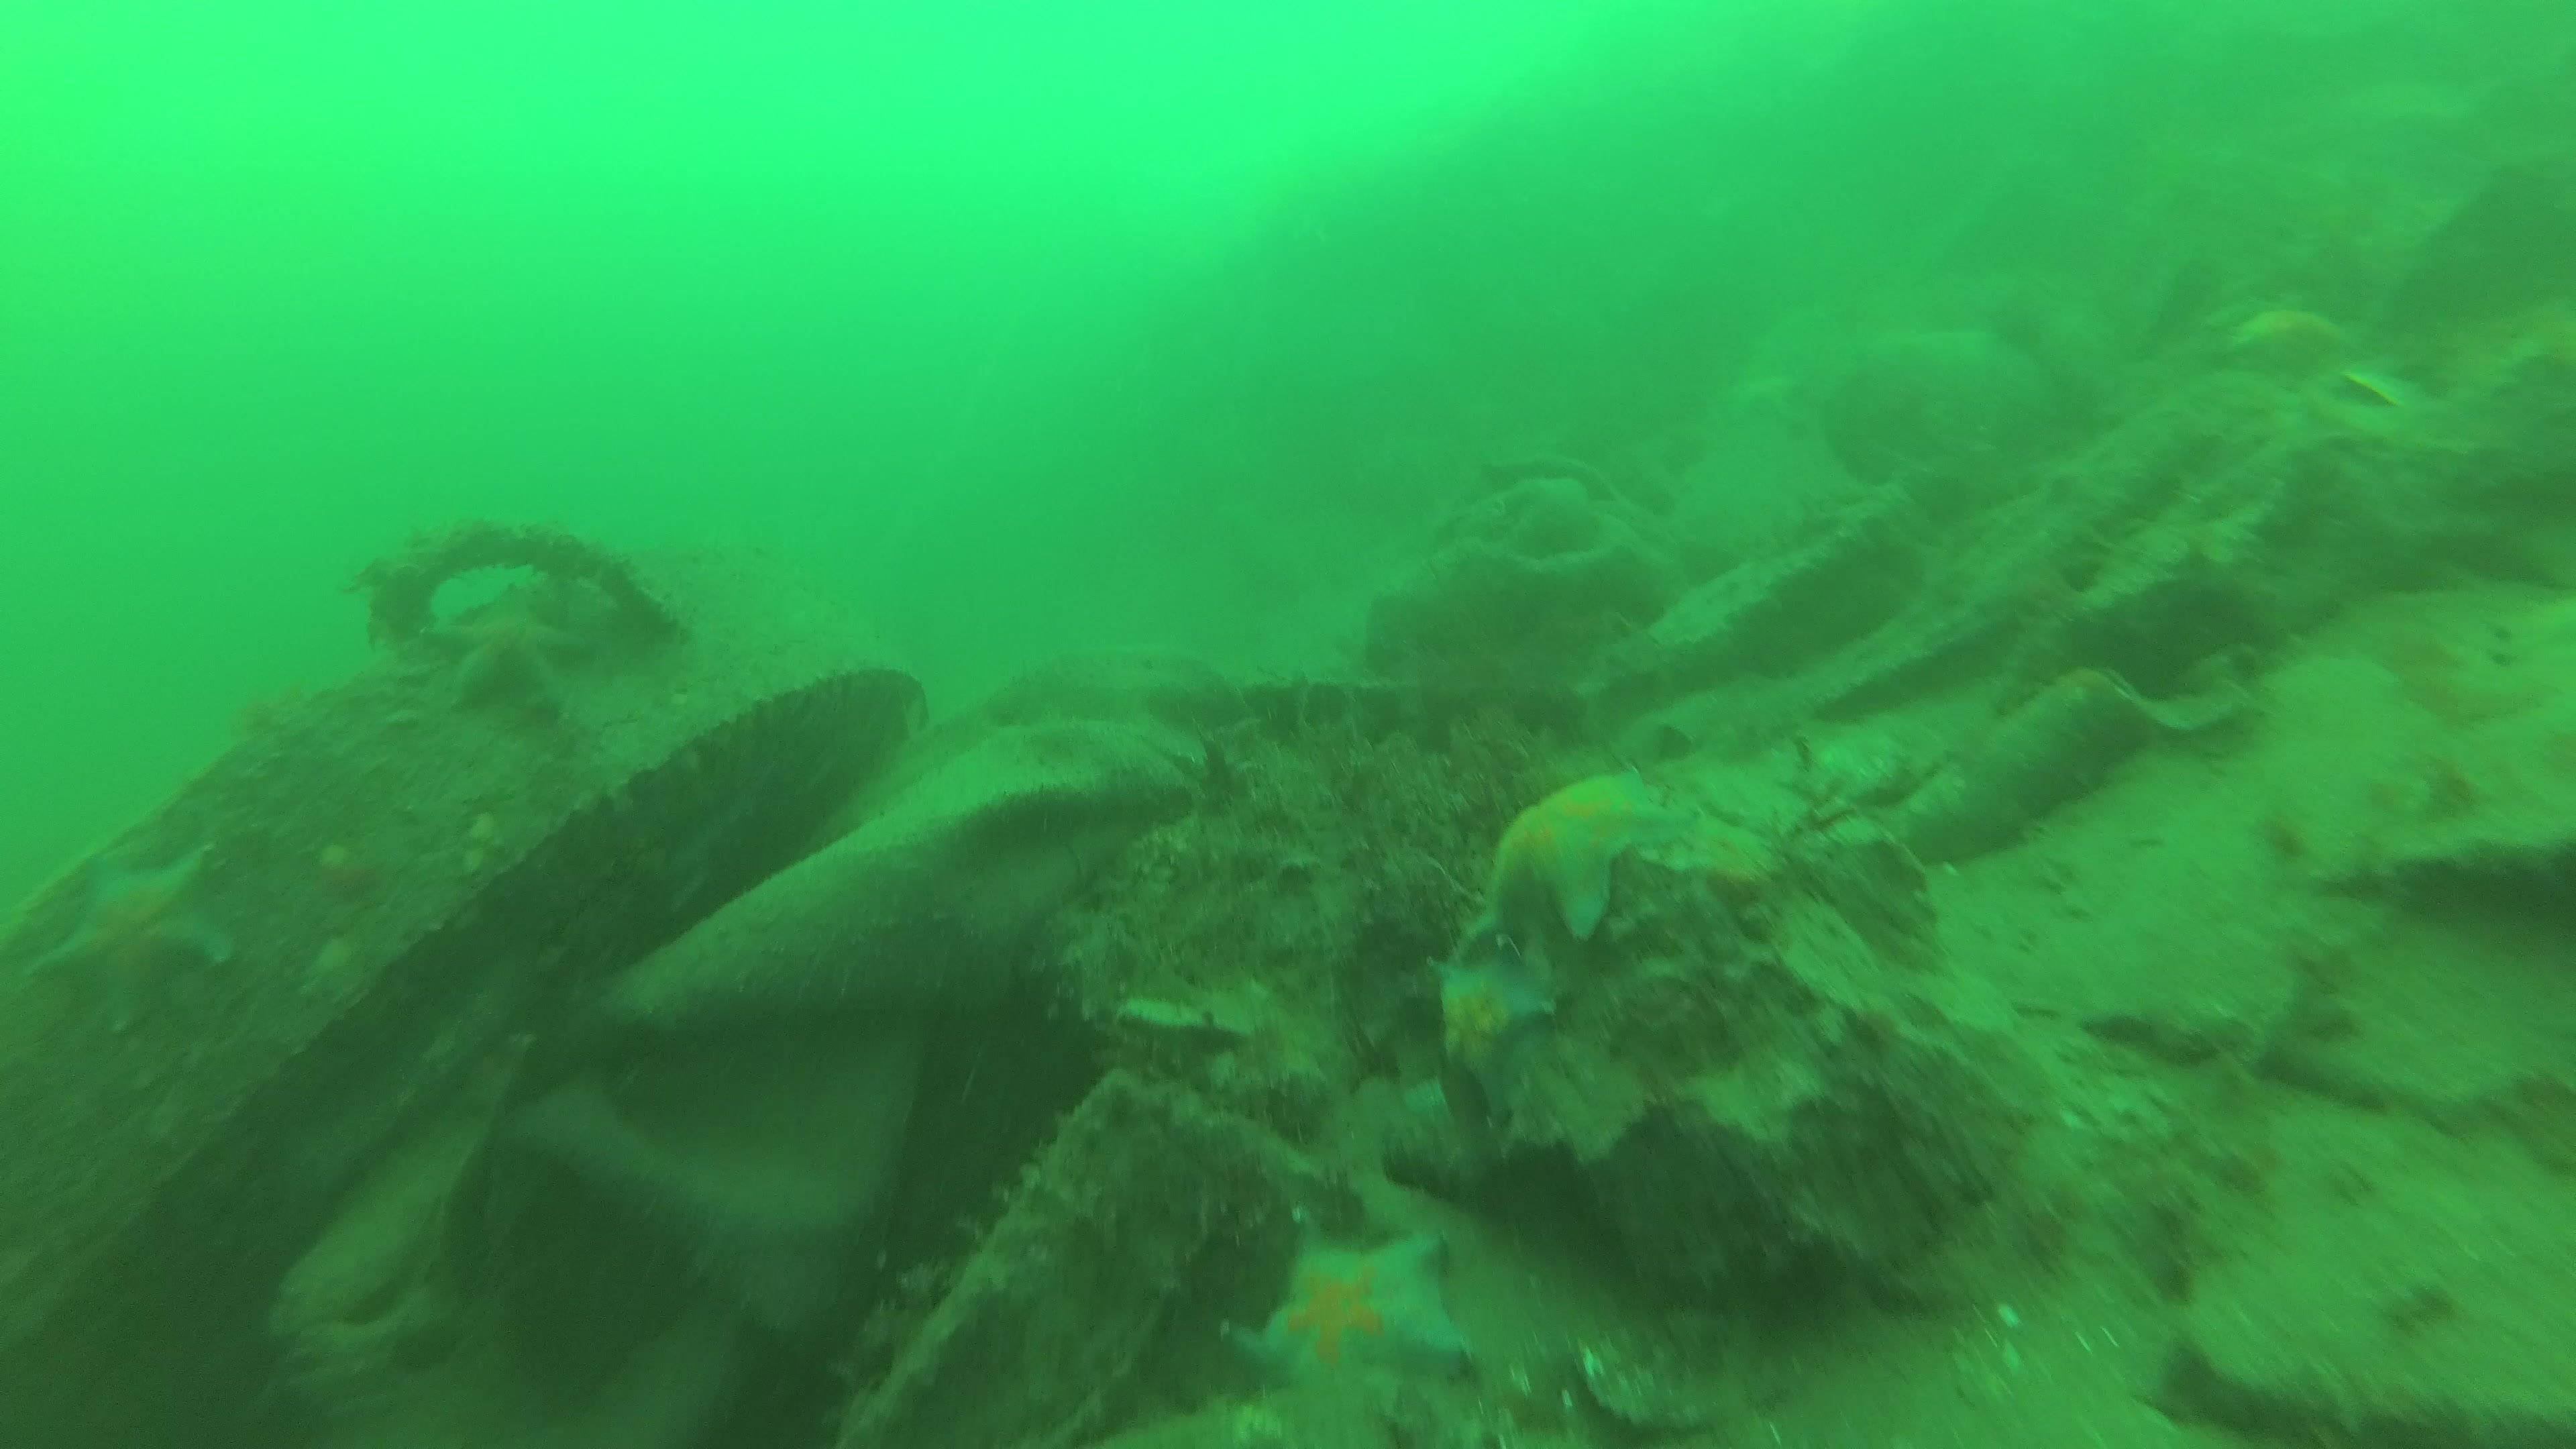starfish: (1240, 1242, 1479, 1440), (23, 851, 235, 1033), (1467, 763, 1683, 939), (426, 582, 584, 718), (1428, 950, 1559, 1079), (2226, 299, 2351, 379)
